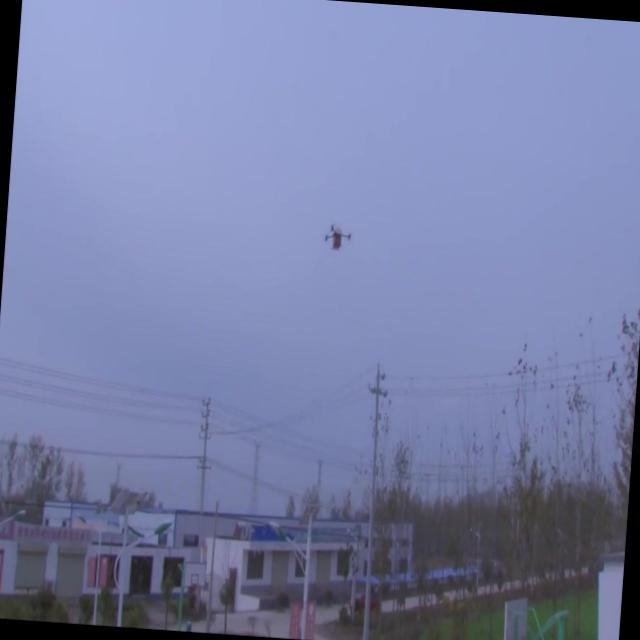drone: (322, 220, 353, 256)
